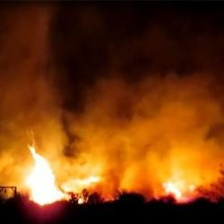fire: (24, 149, 70, 202), (162, 173, 193, 204)
